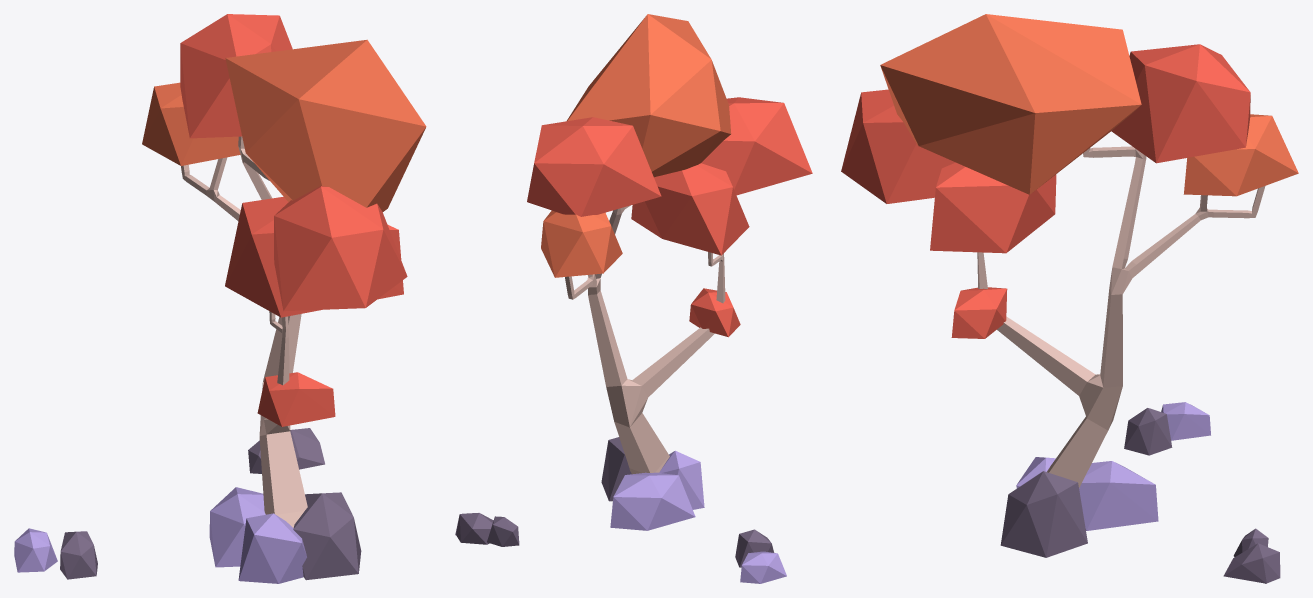
File: tree_b.glb
3 renders of one model, left to right at view 1: azimuth 30°, elevation 25°; view 2: azimuth 150°, elevation 25°; view 3: azimuth 270°, elevation 25°, orthographic. The views are drawn at different scales.
Visible parts, largest first — view 1: Icosphere.010, Icosphere.006, Icosphere.004, Plane, Icosphere.009, Icosphere, Icosphere.005, Icosphere.001, Icosphere.011, Icosphere.007, Icosphere.013, Icosphere.014 (+1 smaller); view 2: Icosphere.010, Icosphere.004, Plane, Icosphere.009, Icosphere.006, Icosphere.005, Icosphere.007, Icosphere.011, Icosphere.001, Icosphere.014, Icosphere, Icosphere.003 (+2 smaller); view 3: Icosphere.010, Plane, Icosphere.004, Icosphere.009, Icosphere.006, Icosphere, Icosphere.005, Icosphere.007, Icosphere.011, Icosphere.013, Icosphere.003, Icosphere.014.
Part boxes in pixels (left/top/right/bottom): Icosphere.010: left=225, top=39, right=426, bottom=211; Icosphere.006: left=274, top=186, right=407, bottom=311; Icosphere.004: left=180, top=14, right=292, bottom=138; Plane: left=181, top=136, right=307, bottom=527; Icosphere.009: left=225, top=196, right=403, bottom=317; Icosphere: left=293, top=492, right=361, bottom=580; Icosphere.005: left=142, top=82, right=240, bottom=165; Icosphere.001: left=238, top=513, right=306, bottom=583; Icosphere.011: left=257, top=372, right=335, bottom=426; Icosphere.007: left=209, top=487, right=265, bottom=567; Icosphere.013: left=60, top=531, right=97, bottom=579; Icosphere.014: left=14, top=528, right=57, bottom=572; Icosphere.010: left=567, top=14, right=731, bottom=177; Icosphere.004: left=527, top=117, right=661, bottom=216; Plane: left=565, top=205, right=725, bottom=474; Icosphere.009: left=631, top=163, right=749, bottom=255; Icosphere.006: left=701, top=97, right=812, bottom=195; Icosphere.005: left=541, top=210, right=622, bottom=277; Icosphere.007: left=610, top=472, right=695, bottom=530; Icosphere.011: left=689, top=288, right=740, bottom=337; Icosphere.001: left=659, top=450, right=704, bottom=509; Icosphere.014: left=740, top=551, right=786, bottom=583; Icosphere: left=601, top=437, right=631, bottom=501; Icosphere.003: left=455, top=513, right=493, bottom=544; Icosphere.010: left=880, top=14, right=1141, bottom=194; Plane: left=977, top=146, right=1265, bottom=487; Icosphere.004: left=1111, top=44, right=1250, bottom=163; Icosphere.009: left=930, top=162, right=1056, bottom=253; Icosphere.006: left=841, top=89, right=955, bottom=203; Icosphere: left=1000, top=471, right=1087, bottom=557; Icosphere.005: left=1183, top=114, right=1298, bottom=196; Icosphere.007: left=1079, top=461, right=1158, bottom=530; Icosphere.011: left=951, top=287, right=1007, bottom=338; Icosphere.013: left=1124, top=408, right=1172, bottom=455; Icosphere.003: left=1223, top=543, right=1280, bottom=583; Icosphere.014: left=1161, top=402, right=1210, bottom=440.
Bounding box in the file's own units: 4.45 × 6.72 × 5.2.
